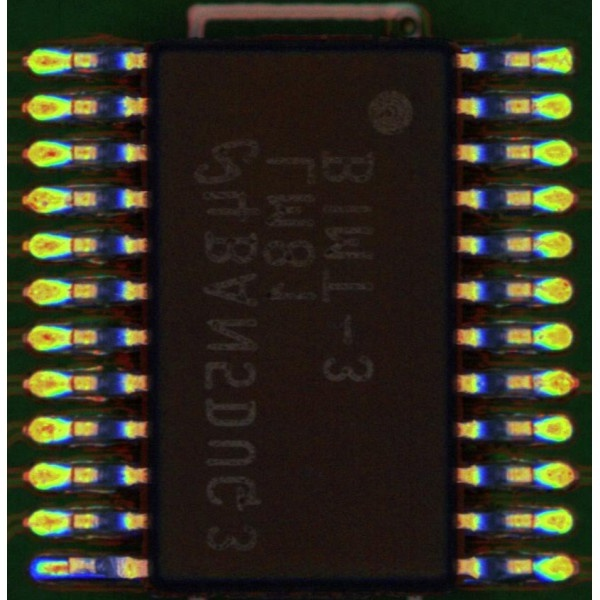Bad_podu: (52, 332, 84, 344), (56, 194, 86, 206), (56, 379, 83, 392), (520, 55, 547, 66), (55, 562, 80, 573)
